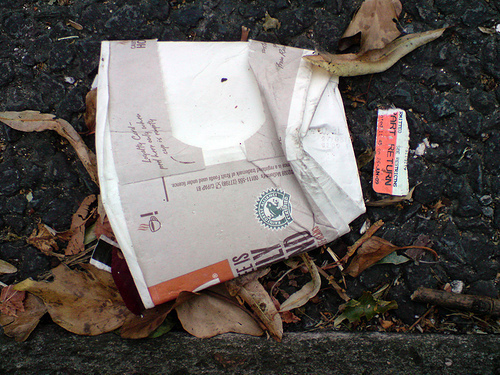litter: (97, 39, 364, 307), (373, 107, 408, 196)
